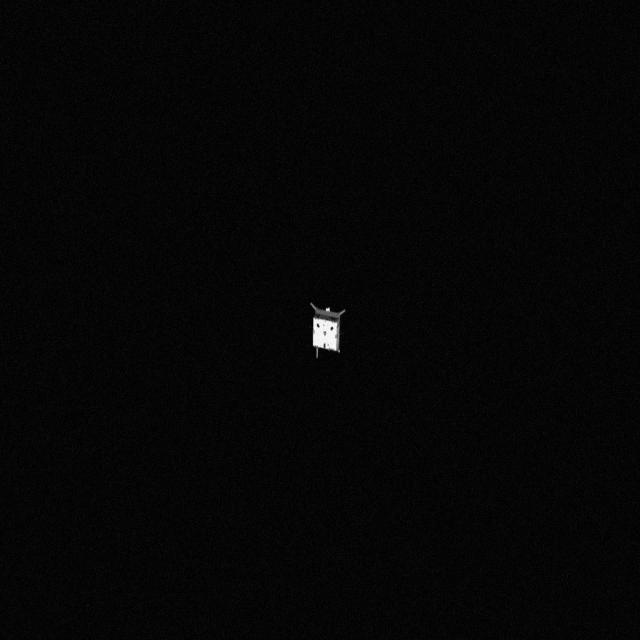satellite: (289, 290, 361, 373)
